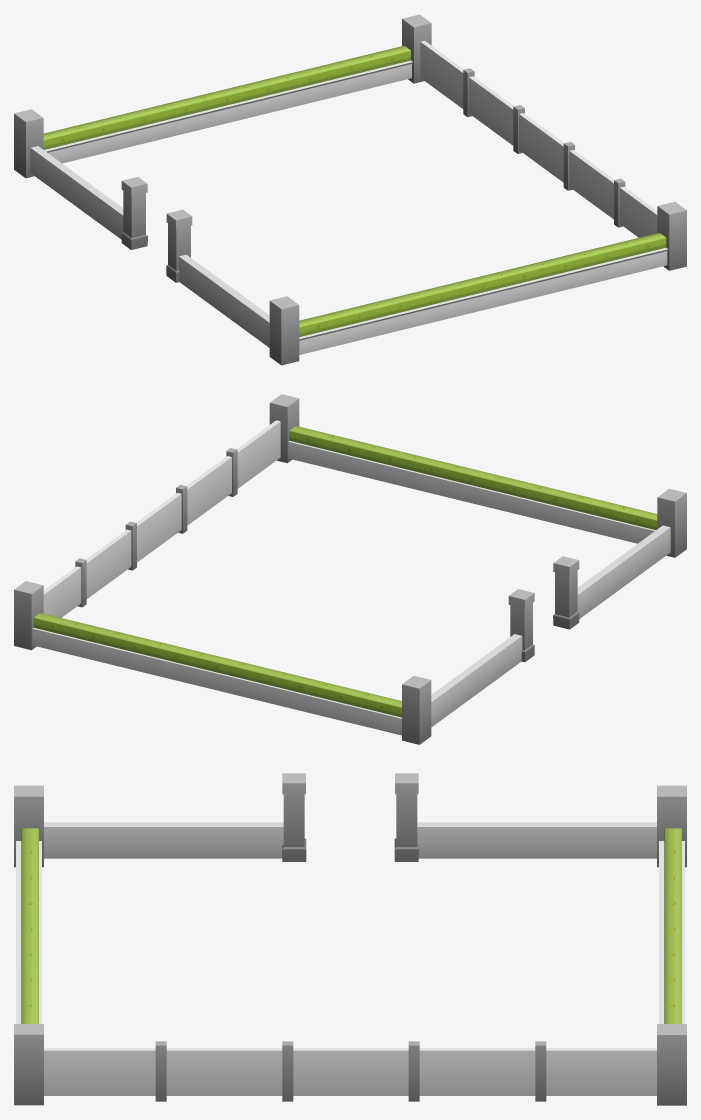
File: SD_Wall.fbx
The picture shows the model from 3 angles, top to bottom: view 1: azimuth 30°, elevation 25°; view 2: azimuth 150°, elevation 25°; view 3: azimuth 270°, elevation 25°; orthographic projection. The views are drawn at different scales.
Parts seen in each view (by area): view 1: SD_Wall3, SD_Wall4, SD_Wall5, SD_Wall1, SD_Wall2, WallTiang2_SD, WallTiang4_SD, WallTiang1_SD, WallTiang5_SD, WallTiang7_SD, WallTiang3_SD, WallTiang6_SD; view 2: SD_Wall4, SD_Wall3, SD_Wall5, SD_Wall2, SD_Wall1, WallTiang5_SD, WallTiang3_SD, WallTiang6_SD, WallTiang2_SD, WallTiang7_SD, WallTiang4_SD, WallTiang1_SD; view 3: SD_Wall5, SD_Wall1, SD_Wall2, SD_Wall3, SD_Wall4, WallTiang7_SD, WallTiang1_SD, WallTiang6_SD, WallTiang3_SD, WallTiang4_SD, WallTiang2_SD, WallTiang5_SD.
Part boxes in pixels (bbox=[...]): SD_Wall3: bbox=[299, 233, 668, 354]; SD_Wall4: bbox=[43, 45, 412, 163]; SD_Wall5: bbox=[420, 40, 657, 237]; SD_Wall1: bbox=[30, 146, 123, 239]; SD_Wall2: bbox=[179, 254, 269, 347]; WallTiang2_SD: bbox=[269, 296, 299, 365]; WallTiang4_SD: bbox=[121, 177, 147, 249]; WallTiang1_SD: bbox=[657, 201, 686, 270]; WallTiang5_SD: bbox=[14, 109, 43, 178]; WallTiang7_SD: bbox=[463, 68, 625, 227]; WallTiang3_SD: bbox=[166, 209, 192, 282]; WallTiang6_SD: bbox=[402, 14, 431, 83]; SD_Wall4: bbox=[32, 613, 401, 735]; SD_Wall3: bbox=[288, 426, 657, 543]; SD_Wall5: bbox=[43, 420, 280, 617]; SD_Wall2: bbox=[577, 525, 670, 618]; SD_Wall1: bbox=[431, 634, 522, 727]; WallTiang5_SD: bbox=[402, 676, 431, 744]; WallTiang3_SD: bbox=[553, 556, 579, 629]; WallTiang6_SD: bbox=[14, 581, 43, 650]; WallTiang2_SD: bbox=[657, 488, 686, 557]; WallTiang7_SD: bbox=[75, 448, 237, 607]; WallTiang4_SD: bbox=[508, 589, 534, 662]; WallTiang1_SD: bbox=[269, 394, 299, 463]; SD_Wall5: bbox=[44, 1048, 656, 1095]; SD_Wall1: bbox=[417, 822, 656, 858]; SD_Wall2: bbox=[44, 822, 283, 858]; SD_Wall3: bbox=[16, 828, 41, 1023]; SD_Wall4: bbox=[659, 828, 684, 1023]; WallTiang7_SD: bbox=[155, 1041, 546, 1101]; WallTiang1_SD: bbox=[14, 1024, 43, 1105]; WallTiang6_SD: bbox=[657, 1024, 686, 1105]; WallTiang3_SD: bbox=[282, 773, 306, 861]; WallTiang4_SD: bbox=[394, 773, 418, 861]; WallTiang2_SD: bbox=[14, 785, 43, 867]; WallTiang5_SD: bbox=[657, 785, 686, 867].
Bounding box in the file's own units: 6024 × 947 × 6878.
